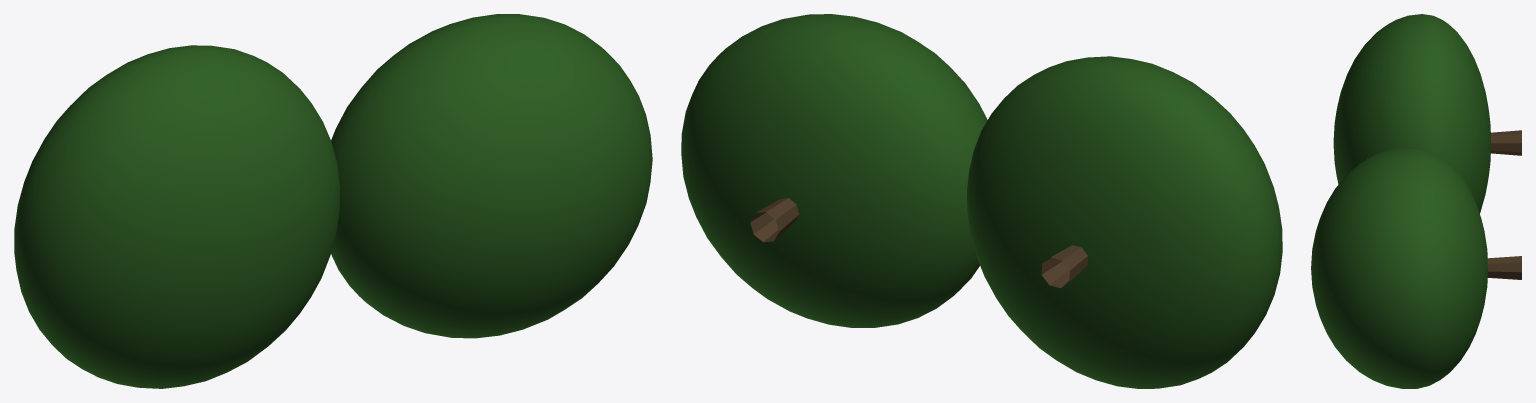
Rendered from citrus_plain2_c.obj.
The picture shows the model from 3 angles, left to right: view 1: azimuth 30°, elevation 25°; view 2: azimuth 150°, elevation 25°; view 3: azimuth 270°, elevation 25°; orthographic projection. The views are drawn at different scales.
Parts seen in each view (by area): view 1: canopy; view 2: canopy, trunk; view 3: canopy, trunk.
Part boxes in pixels (x1=…): canopy: x1=14, y1=14, x2=652, y2=388; canopy: x1=681, y1=14, x2=1282, y2=388; trunk: x1=750, y1=198, x2=1087, y2=288; canopy: x1=1311, y1=14, x2=1490, y2=388; trunk: x1=1487, y1=130, x2=1521, y2=279.
Bounding box in the file's own units: 6.07 × 3.23 × 2.52.
